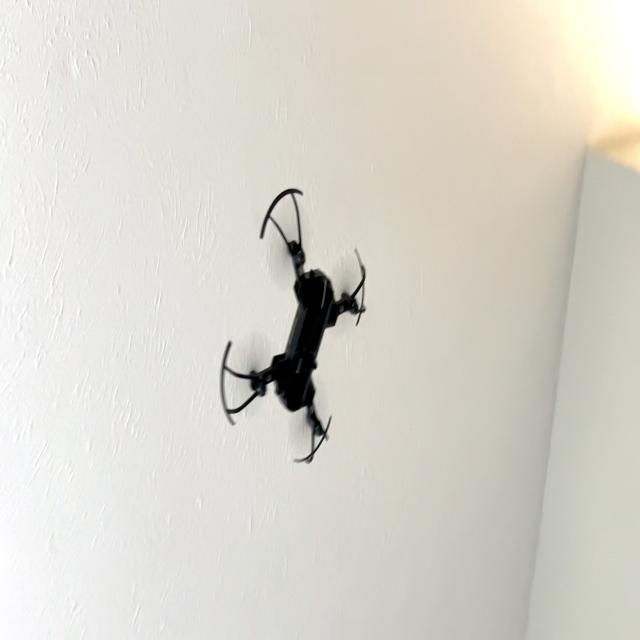drone: (208, 169, 378, 487)
